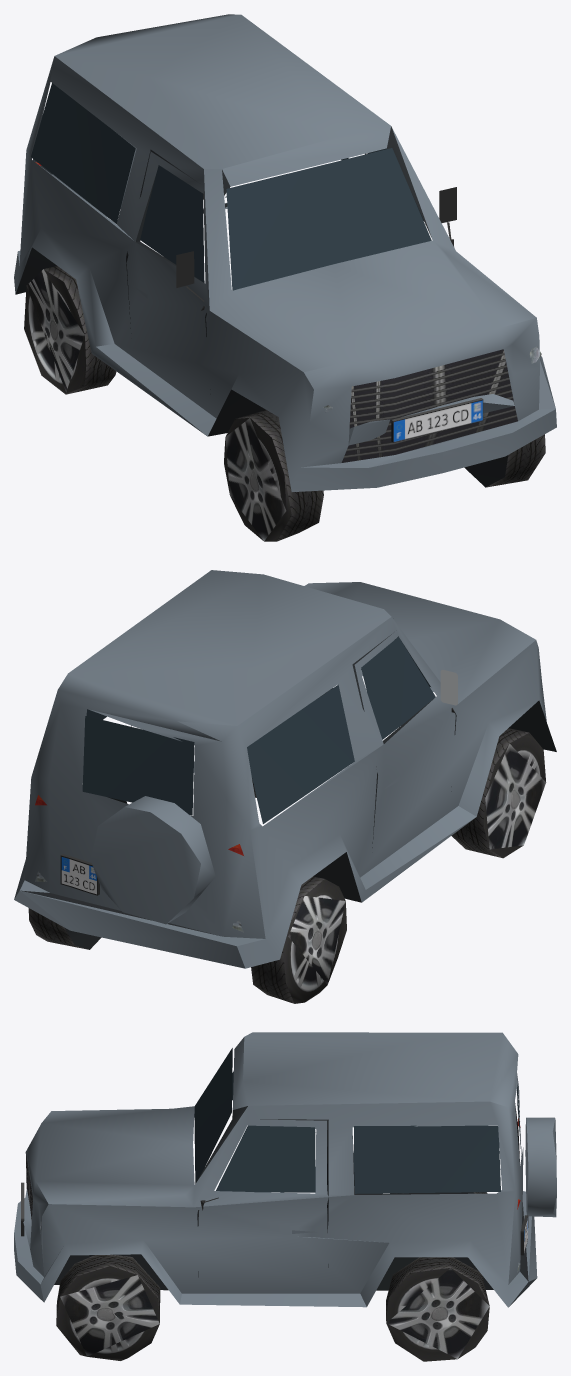
File: offroad_far.glb
3 views of the same model, one above another, from view 1: azimuth 30°, elevation 25°; view 2: azimuth 150°, elevation 25°; view 3: azimuth 270°, elevation 25° (orthographic). The views are drawn at different scales.
Parts seen in each view (by area): view 1: paint-Body-body, glass-Glass-body, paint-LowBodyArch-body, trim-AirGrid-body, alloy-Rim-(False, False), rubber-Tires-(False, True), rubber-Tires-(False, False), alloy-Rim-(False, True), trim-LicensePlate-body, rubber-WheelArch-body, trim-Rearview-body, rubber-Tires-(True, False) (+2 smaller); view 2: paint-Body-body, glass-Glass-body, paint-LowBodyArch-body, alloy-Rim-(False, False), rubber-Tires-(False, True), alloy-Rim-(False, True), rubber-Tires-(False, False), rubber-WheelArch-body, trim-LicensePlate-body, rubber-Tires-(True, True), rubber-BlackRubber-body, mirror-Mirror-body; view 3: paint-Body-body, glass-Glass-body, paint-LowBodyArch-body, alloy-Rim-(True, True), alloy-Rim-(True, False), rubber-Tires-(True, False), rubber-Tires-(True, True), rubber-WheelArch-body, rubber-BlackRubber-body, trim-LicensePlate-body.
Part boxes in pixels (left/top/right/bottom): paint-Body-body: left=19, top=14, right=539, bottom=467; glass-Glass-body: left=31, top=83, right=431, bottom=290; paint-LowBodyArch-body: left=14, top=203, right=556, bottom=491; trim-AirGrid-body: left=341, top=349, right=517, bottom=462; alloy-Rim-(False, False): left=225, top=418, right=286, bottom=541; rubber-Tires-(False, True): left=24, top=266, right=116, bottom=394; rubber-Tires-(False, False): left=224, top=410, right=323, bottom=541; alloy-Rim-(False, True): left=26, top=269, right=84, bottom=392; trim-LicensePlate-body: left=201, top=192, right=483, bottom=442; rubber-WheelArch-body: left=15, top=247, right=265, bottom=436; trim-Rearview-body: left=176, top=187, right=456, bottom=310; rubber-Tires-(True, False): left=486, top=434, right=545, bottom=487; paint-Body-body: left=24, top=570, right=546, bottom=938; glass-Glass-body: left=82, top=636, right=435, bottom=823; paint-LowBodyArch-body: left=14, top=670, right=538, bottom=968; alloy-Rim-(False, False): left=485, top=743, right=545, bottom=849; rubber-Tires-(False, True): left=251, top=876, right=346, bottom=1003; alloy-Rim-(False, True): left=288, top=896, right=345, bottom=984; rubber-Tires-(False, False): left=451, top=728, right=545, bottom=858; rubber-WheelArch-body: left=108, top=688, right=556, bottom=902; trim-LicensePlate-body: left=60, top=854, right=99, bottom=895; rubber-Tires-(True, True): left=28, top=908, right=87, bottom=949; rubber-BlackRubber-body: left=21, top=699, right=433, bottom=935; mirror-Mirror-body: left=440, top=669, right=457, bottom=705; paint-Body-body: left=18, top=1032, right=556, bottom=1293; glass-Glass-body: left=194, top=1048, right=521, bottom=1193; paint-LowBodyArch-body: left=14, top=1191, right=537, bottom=1307; alloy-Rim-(True, True): left=386, top=1268, right=489, bottom=1358; alloy-Rim-(True, False): left=60, top=1275, right=159, bottom=1356; rubber-Tires-(True, False): left=56, top=1254, right=160, bottom=1360; rubber-Tires-(True, True): left=386, top=1257, right=489, bottom=1361; rubber-WheelArch-body: left=54, top=1254, right=493, bottom=1290; rubber-BlackRubber-body: left=196, top=1103, right=528, bottom=1281; trim-LicensePlate-body: left=21, top=1182, right=528, bottom=1255.
Bounding box in the file's own units: 1.86 × 1.93 × 3.81.
Materials: 16 (5 with a texture image).
